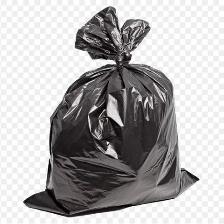plastic_bag: (17, 4, 203, 218)
